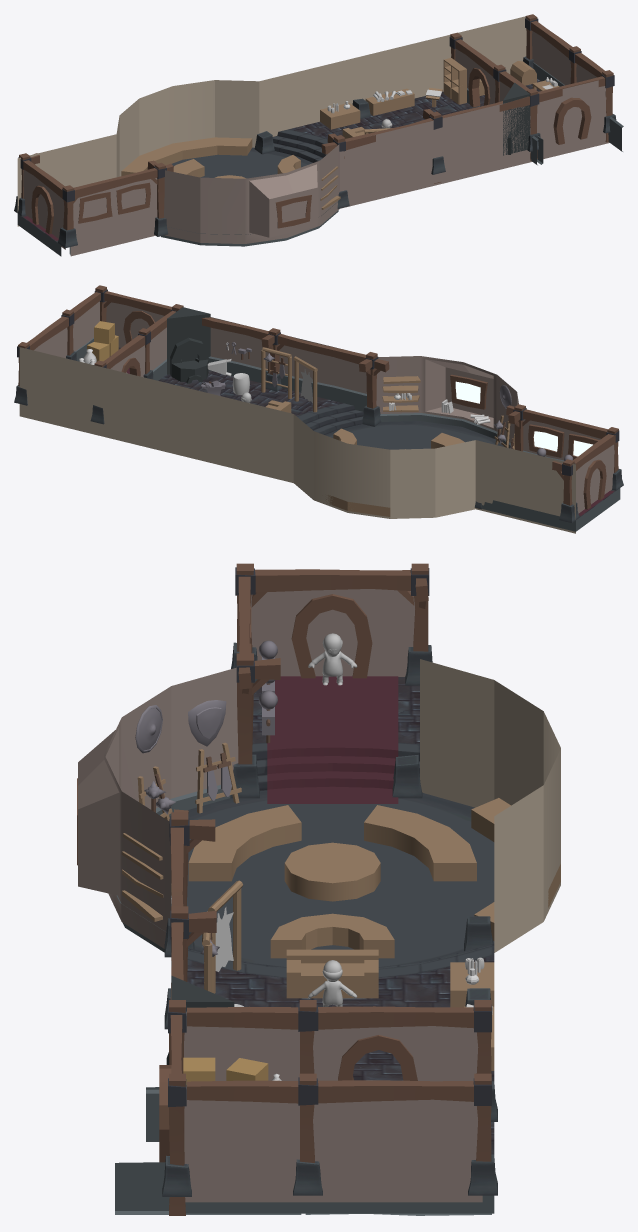
File: Shop_Layout_v02_001.fbx
3 views of the same model, one above another, from view 1: azimuth 30°, elevation 25°; view 2: azimuth 150°, elevation 25°; view 3: azimuth 270°, elevation 25° (orthographic). The views are drawn at different scales.
Parts seen in each view (by area): view 1: WallShop_top_geo, WallShop_bottom_geo, Floor_geo, Display_bottom_geo, FloorMid_geo, pCube110, WallStorage_geo, WallEntrance_geo, Steps_geo, DoorArch_entrance_geo4, pCube155, pCube122 (+22 smaller); view 2: WallShop_bottom_geo, WallShop_top_geo, FloorMid_geo, Floor_geo, pCube110, FloorSides_geo, WallStorage_geo, Steps_geo, WallEntrance_geo, WallShop_top_geo1, pCube178, WallCraft_geo (+20 smaller); view 3: WallStorage_geo, FloorMid_geo, WallShop_bottom_geo, WallShop_top_geo, polySurface5, WallCraft_geo, Display_floor_geo, WallEntrance_geo, Floor_geo, Display_center_geo, Till_geo, CraftingTable (+28 smaller).
Part boxes in pixels (x1,y1,x2,y2): WallShop_top_geo: [70, 80, 609, 256]; WallShop_bottom_geo: [17, 16, 526, 226]; Floor_geo: [21, 78, 540, 242]; Display_bottom_geo: [121, 137, 252, 175]; FloorMid_geo: [172, 147, 312, 178]; pCube110: [503, 82, 530, 155]; WallStorage_geo: [532, 31, 596, 85]; WallEntrance_geo: [23, 170, 65, 249]; Steps_geo: [272, 129, 328, 162]; DoorArch_entrance_geo4: [553, 97, 591, 144]; pCube155: [74, 168, 157, 198]; pCube122: [320, 102, 360, 129]; WallShop_bottom_geo: [19, 347, 575, 533]; WallShop_top_geo: [106, 301, 600, 460]; FloorMid_geo: [325, 421, 503, 449]; Floor_geo: [109, 347, 615, 517]; pCube110: [167, 307, 210, 374]; FloorSides_geo: [482, 488, 620, 531]; WallStorage_geo: [34, 301, 99, 358]; Steps_geo: [297, 403, 363, 434]; WallEntrance_geo: [576, 444, 614, 513]; WallShop_top_geo1: [380, 413, 510, 448]; pCube178: [281, 375, 366, 411]; WallCraft_geo: [110, 327, 166, 376]; WallStorage_geo: [184, 1087, 482, 1202]; FloorMid_geo: [169, 790, 494, 966]; WallShop_bottom_geo: [420, 659, 560, 952]; WallShop_top_geo: [78, 667, 238, 948]; polySurface5: [267, 676, 398, 803]; WallCraft_geo: [184, 1012, 478, 1081]; Display_floor_geo: [188, 805, 476, 881]; WallEntrance_geo: [250, 589, 414, 676]; Floor_geo: [187, 677, 494, 1154]; Display_center_geo: [284, 842, 380, 901]; Till_geo: [270, 913, 394, 958]; CraftingTable: [286, 949, 378, 998].
Size of the model in its own units: 4453 by 576 by 1742.
